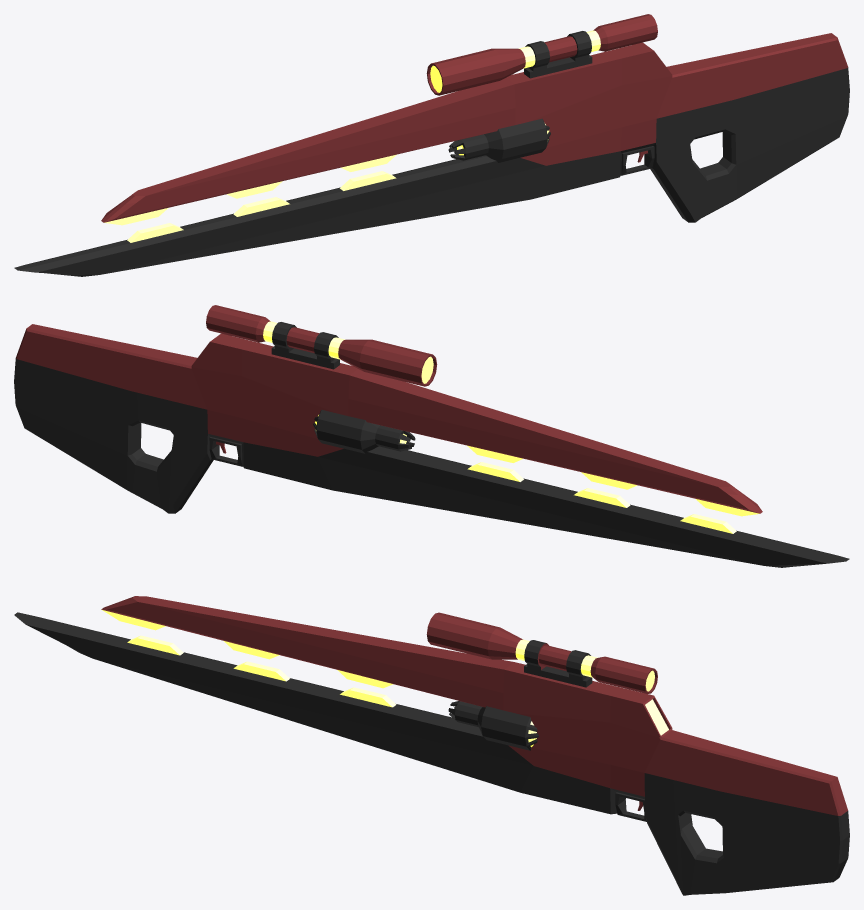
The model's file is Sniper (1).fbx.
The picture shows the model from 3 angles, top to bottom: view 1: azimuth 30°, elevation 25°; view 2: azimuth 150°, elevation 25°; view 3: azimuth 330°, elevation 25°; orthographic projection.
Visible parts, largest first — view 1: gun; view 2: gun; view 3: gun.
Boxes of the visible parts, box(x1,y1,x2,y2) form: gun: box(14, 14, 849, 276); gun: box(14, 305, 849, 567); gun: box(14, 596, 849, 895).
Bounding box in the file's own units: 625 × 156 × 29.19.
